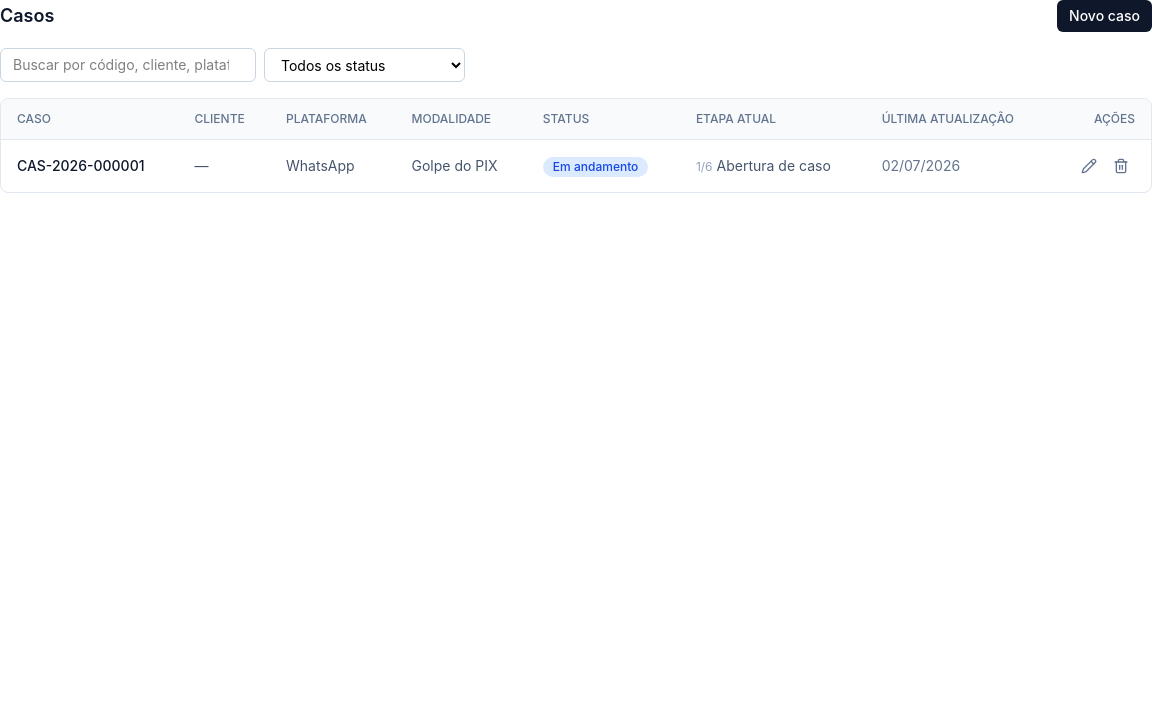
CasesPage › navegação e ações da linha › mostra erro da API quando a exclusão falha e mantém o caso na lista
This screenshot has width=1152, height=720.
Expected: the link "CAS-2026-000001" is shown, top-left (17, 157), bottom-right (144, 174)
Click the button named "Excluir caso CAS-2026-000001" at {"x": 1121, "y": 166}, box top-left (1107, 152), bottom-right (1135, 180)
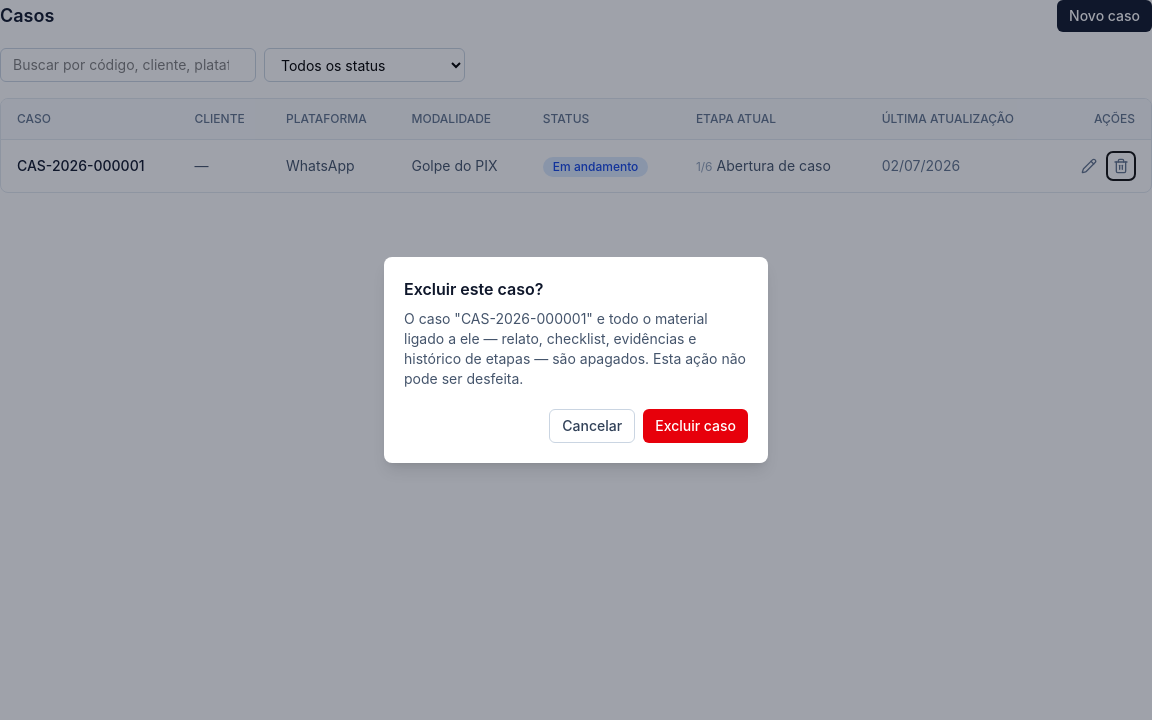
Click the button "Excluir caso" at {"x": 696, "y": 426}, box top-left (643, 409), bottom-right (748, 443)
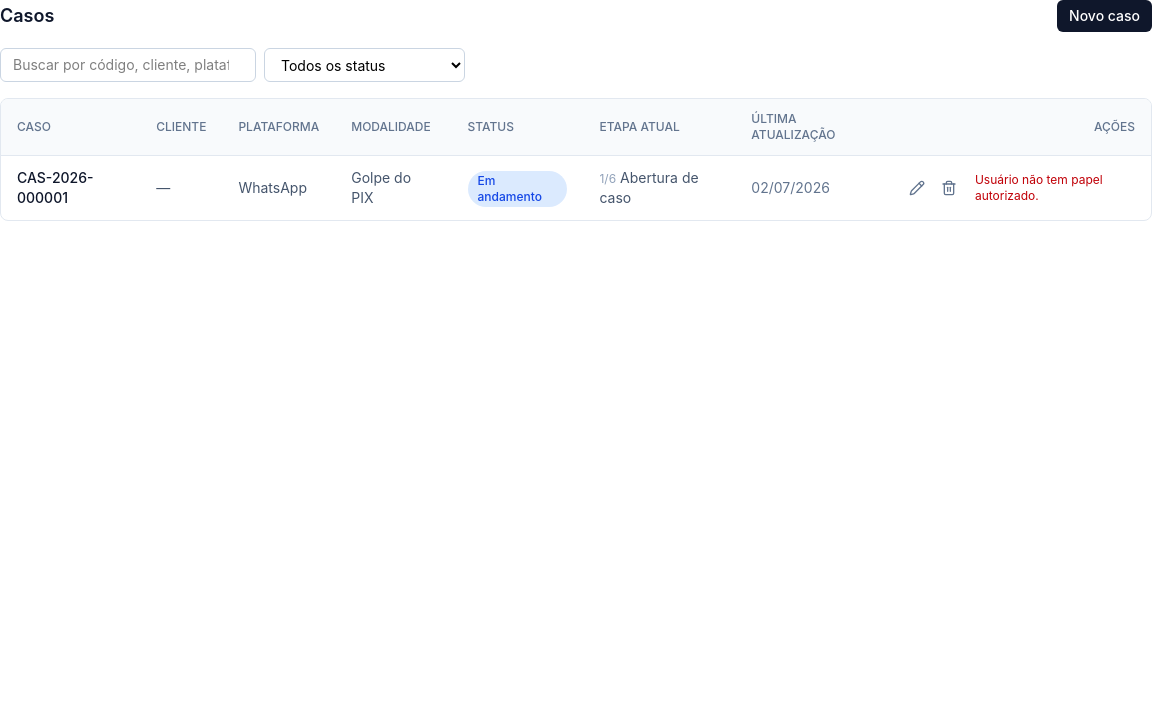
Expected: the link "CAS-2026-000001" is shown, top-left (17, 169), bottom-right (94, 206)
Now the message reads "Usuário não tem papel autorizado.", box top-left (975, 172), bottom-right (1103, 203)
